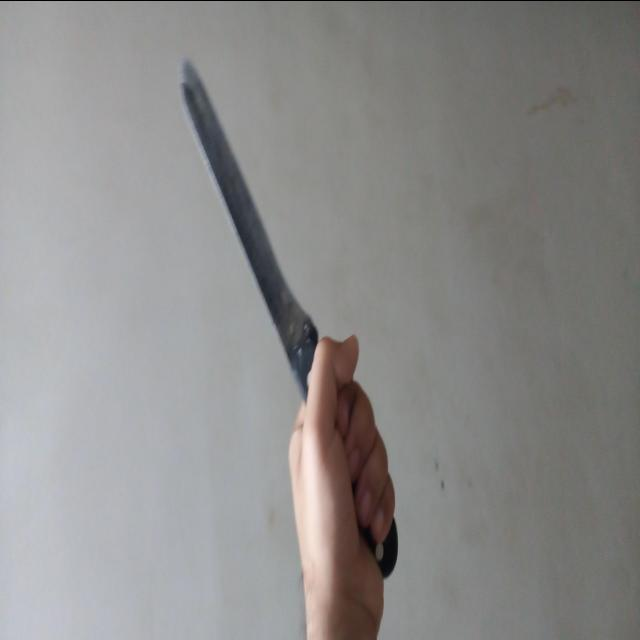Sharp-Object: (176, 51, 400, 594)
